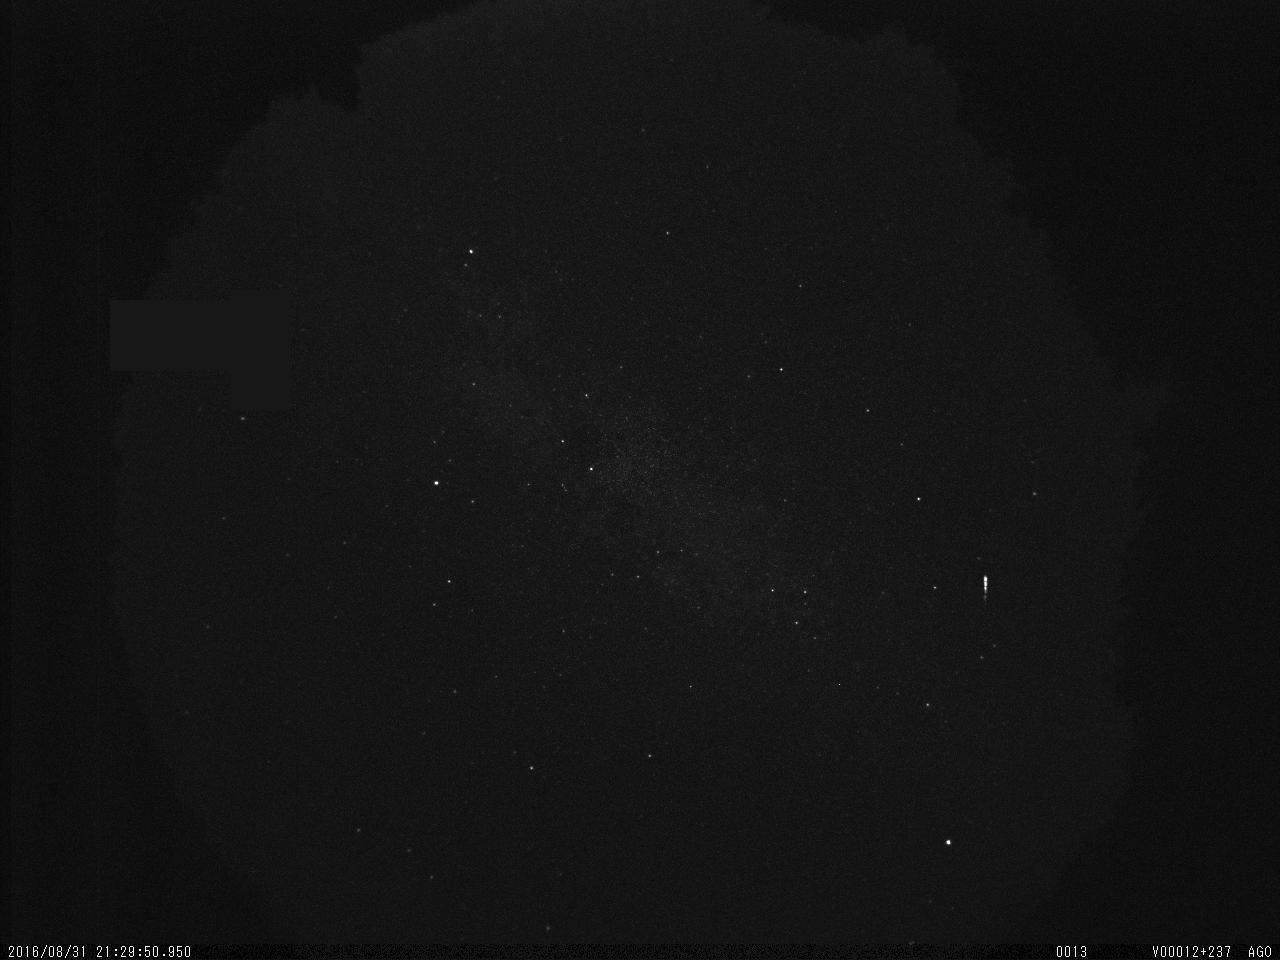meteor: (970, 568, 996, 613)
